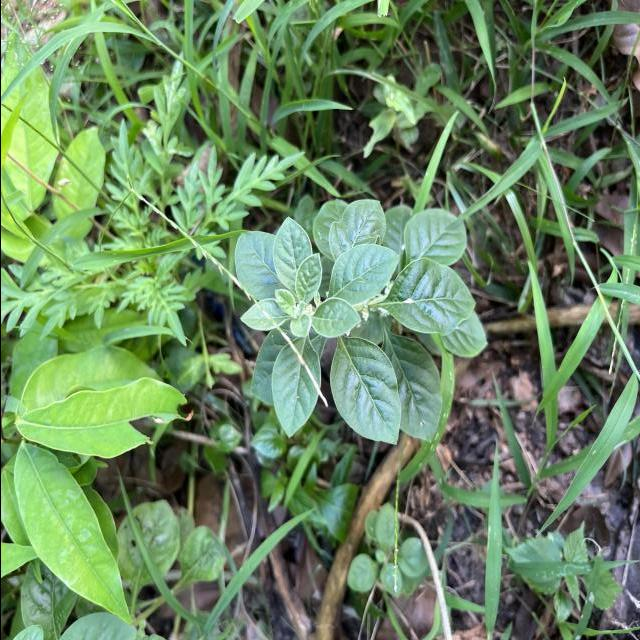Aerva lanata: (327, 334, 402, 448), (381, 256, 477, 336), (379, 330, 442, 446), (326, 241, 399, 307), (270, 214, 314, 298)
